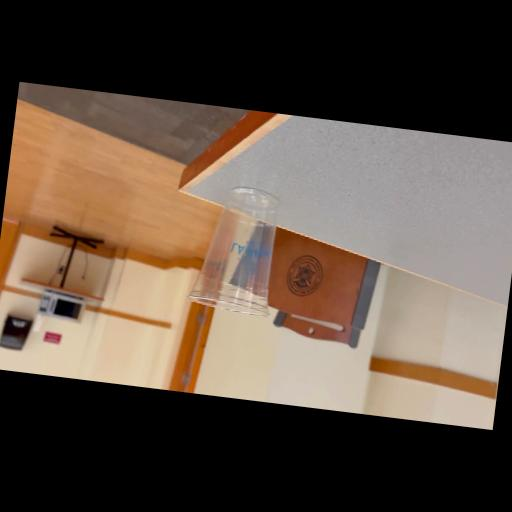lp_plastic_cup: (189, 180, 299, 328)
